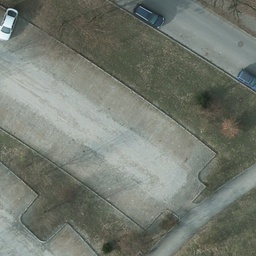car: (133, 6, 165, 29), (1, 8, 19, 40), (236, 67, 255, 90)
